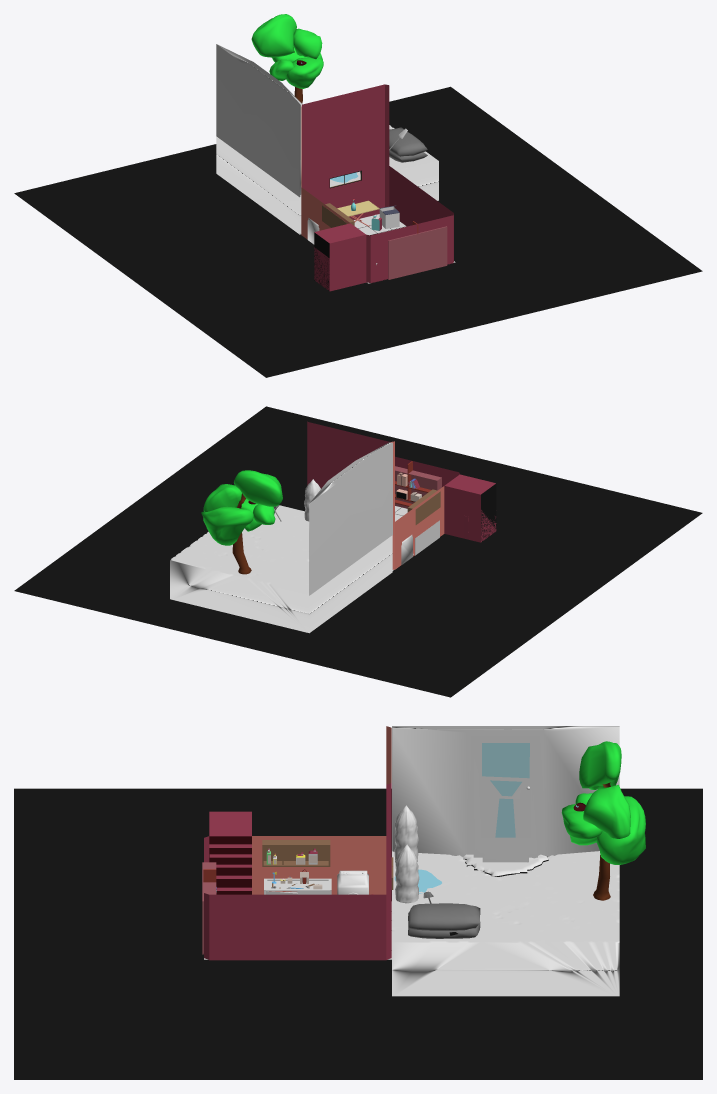
File: Environment.fbx
3 views of the same model, one above another, from view 1: azimuth 30°, elevation 25°; view 2: azimuth 150°, elevation 25°; view 3: azimuth 270°, elevation 25° (orthographic). The views are drawn at different scales.
Parts seen in each view (by area): view 1: Cube, Cube.010, Cube.009, Cylinder.002, Cube.002, Cube.012; view 2: Cube, Cube.009, Cube.010, Cylinder.002, Cube.002; view 3: Cube, Cube.009, Cube.010, Cylinder.002, Cube.012, Cube.001, Cone, Cone.001, Cube.004, Cube.011, Cube.002.
Part boxes in pixels (box(x1,y1,x2,y2)): Cube: box(14, 84, 702, 377); Cube.010: box(216, 44, 302, 197); Cube.009: box(216, 125, 438, 234); Cylinder.002: box(251, 14, 323, 103); Cube.002: box(388, 221, 447, 279); Cube.012: box(389, 127, 427, 156); Cube: box(14, 406, 702, 697); Cube.009: box(170, 505, 392, 633); Cube.010: box(309, 442, 392, 595); Cylinder.002: box(201, 470, 282, 574); Cube.002: box(395, 461, 441, 508); Cube: box(14, 726, 702, 1079); Cube.009: box(392, 850, 619, 996); Cube.010: box(392, 726, 619, 862); Cylinder.002: box(561, 741, 645, 900); Cube.012: box(408, 903, 480, 930); Cube.001: box(264, 869, 331, 894); Cone: box(395, 844, 419, 903); Cone.001: box(394, 805, 418, 862); Cube.004: box(337, 870, 368, 894); Cube.011: box(408, 922, 480, 938); Cube.002: box(202, 862, 216, 954).
Bounding box in the file's own units: 30568 × 9823 × 30568.
